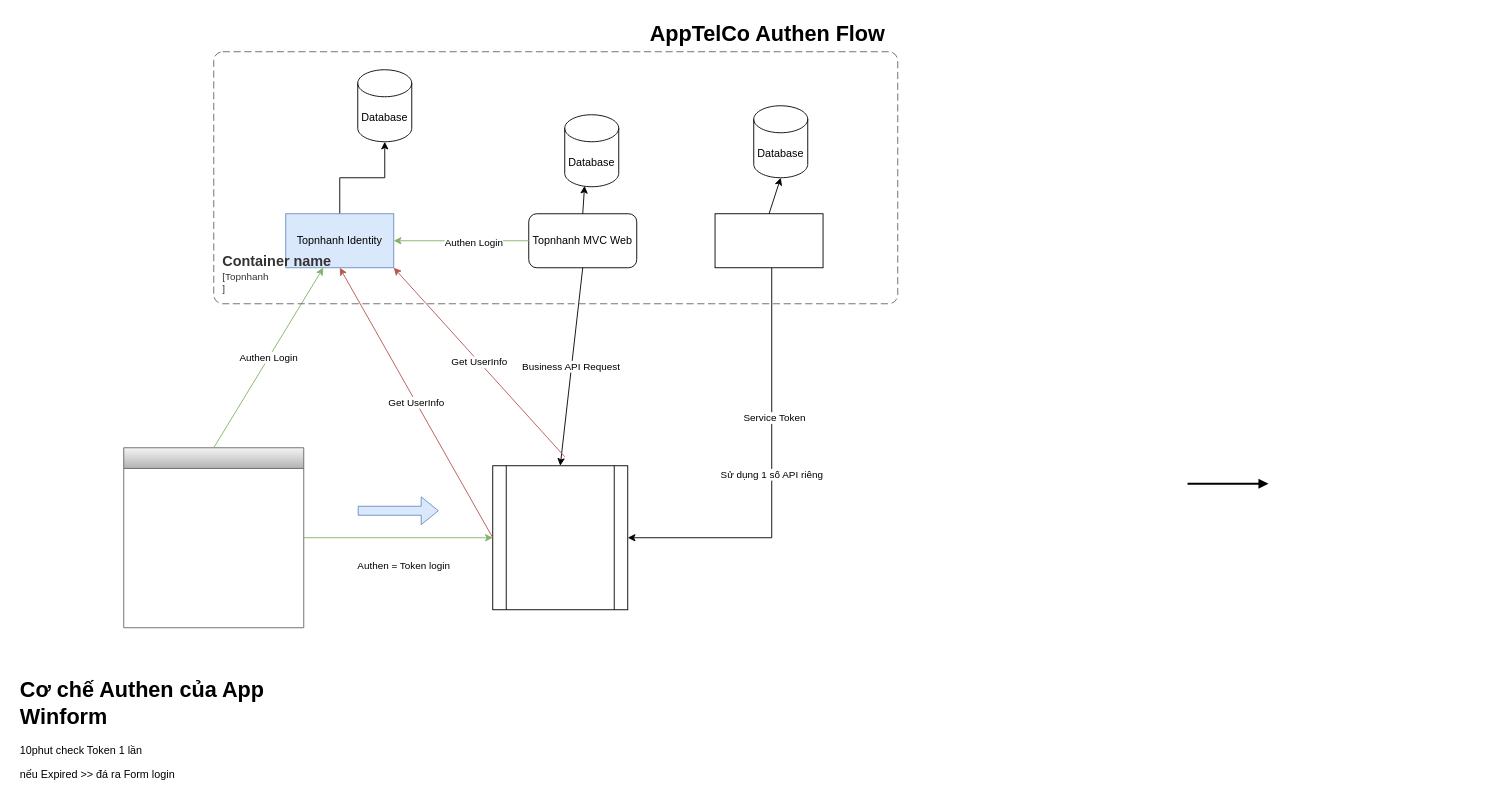
This 1498x796 diagram has some shape labels left out. The shapes that lost their labels are listed below. From the top down, each one's box as (x1, y1, x2, y2) in pixels, then its label:
(714, 213, 823, 268): Topnhanh Card Gateway
(123, 447, 304, 628): Winform Application
(492, 465, 628, 610): Api AppTelcoUser
